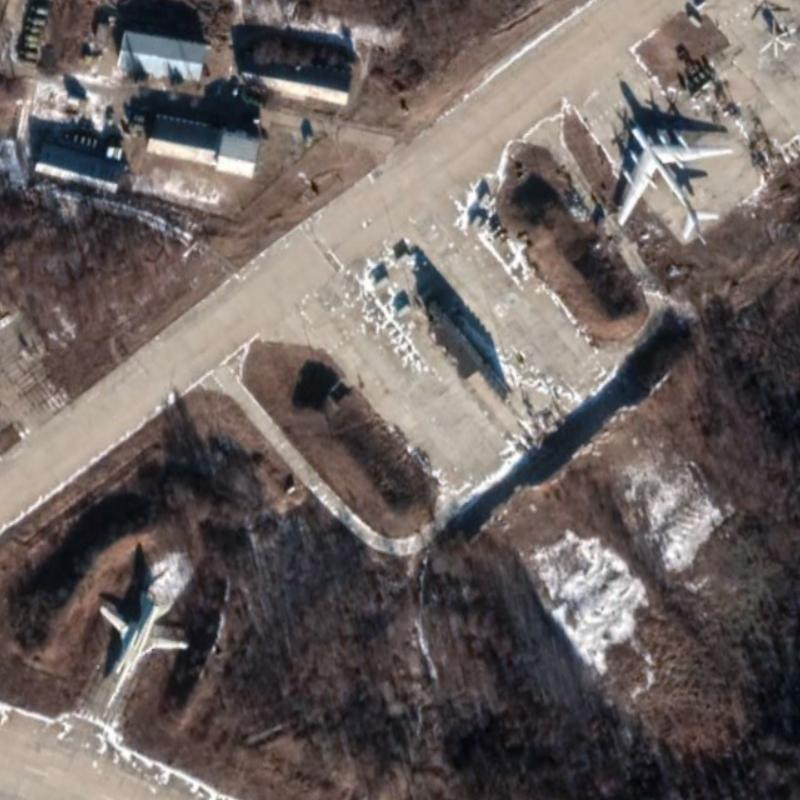A12: (96, 587, 190, 711)
A17: (609, 114, 736, 244)
